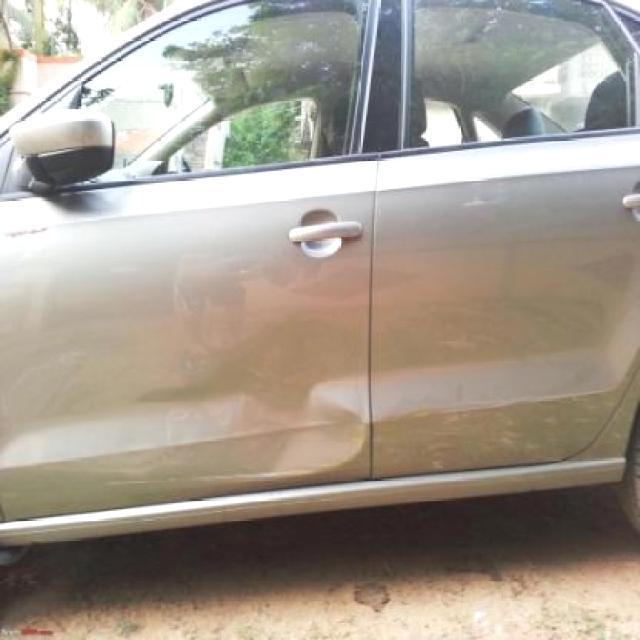minor: (95, 383, 362, 477)
